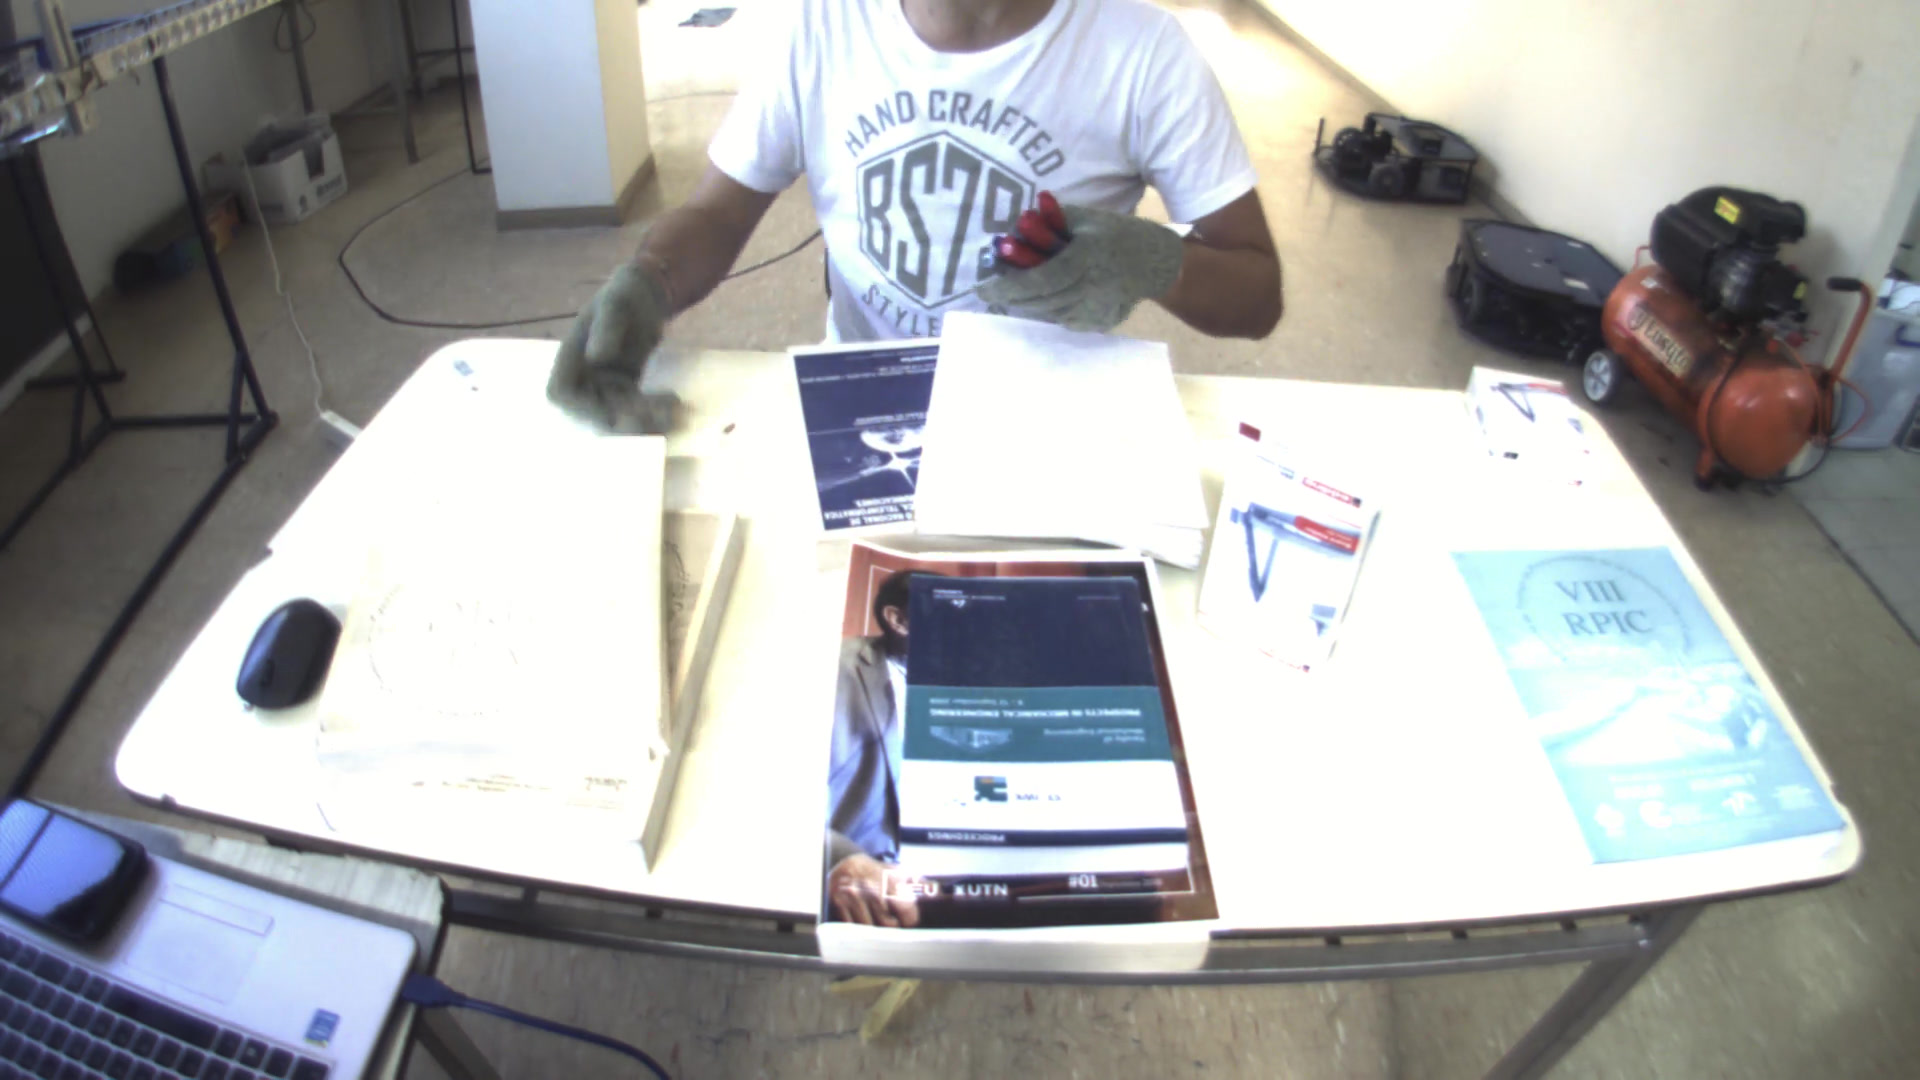hand: (981, 183, 1192, 332), (535, 255, 676, 440)
